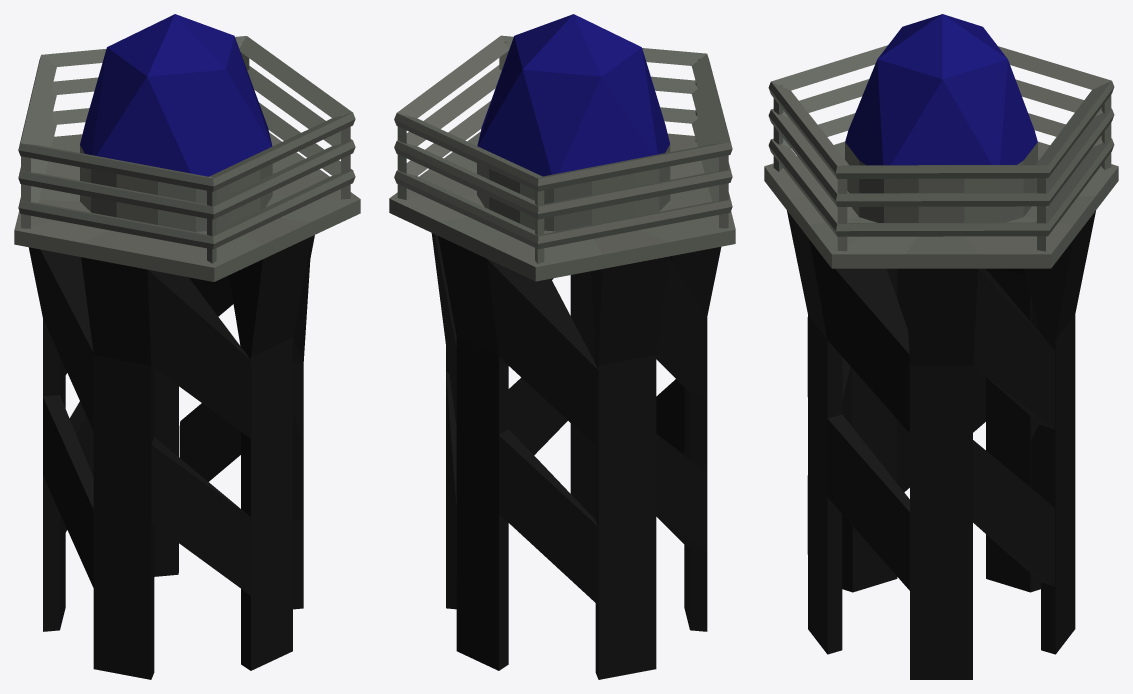
Rendered from TorreAgua.fbx.
The picture shows the model from 3 angles, left to right: view 1: azimuth 30°, elevation 25°; view 2: azimuth 150°, elevation 25°; view 3: azimuth 270°, elevation 25°; orthographic projection.
Visible parts, largest first — view 1: Esfera geodésica.003; view 2: Esfera geodésica.003; view 3: Esfera geodésica.003.
Boxes of the visible parts, x1,y1,x2,y2 form: Esfera geodésica.003: (14,14,360,679); Esfera geodésica.003: (389,14,735,679); Esfera geodésica.003: (764,14,1118,679).
Size of the model in its own units: 1470 by 2938 by 1545.
